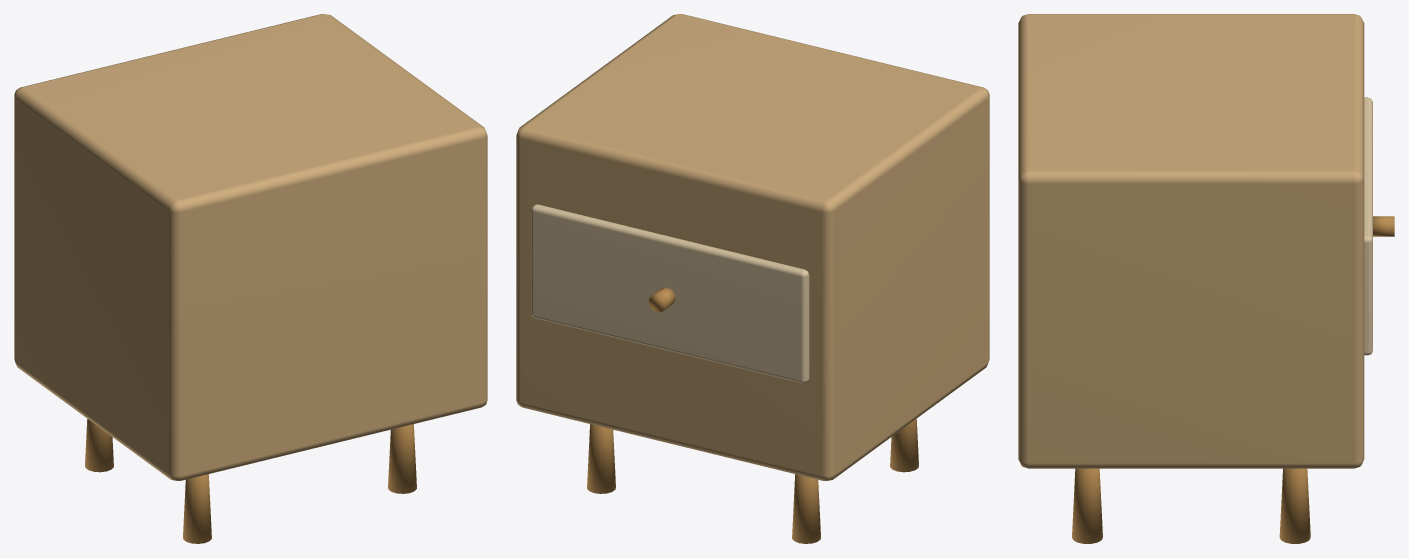
The model's file is nightstand.glb.
3 renders of one model, left to right at view 1: azimuth 30°, elevation 25°; view 2: azimuth 150°, elevation 25°; view 3: azimuth 270°, elevation 25°, orthographic. The views are drawn at different scales.
Visible parts, largest first — view 1: body; view 2: body; view 3: body.
Boxes of the visible parts, box(x1,y1,x2,y2) form: body: box(14, 14, 487, 543); body: box(516, 14, 989, 543); body: box(1018, 14, 1394, 543).
Bounding box in the file's own units: 0.45 × 0.5 × 0.435.
